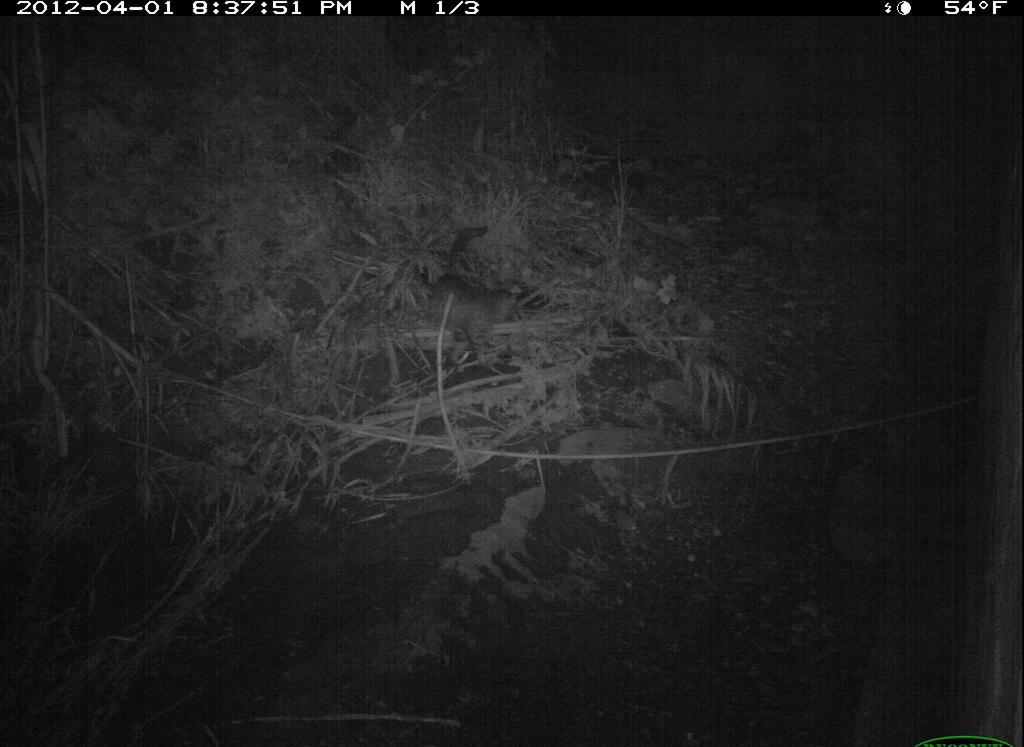cat: (429, 222, 523, 367)
